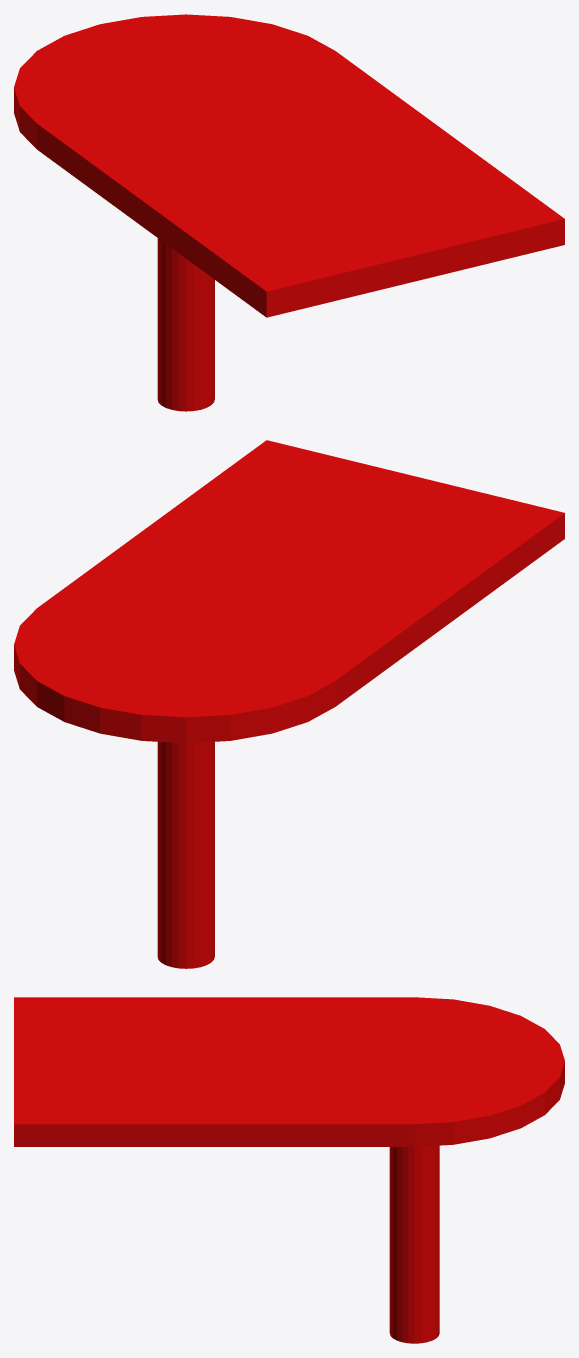
Rendered from OM_1BHK_Kitchen_Dining_Table_01.fbx.
The picture shows the model from 3 angles, top to bottom: view 1: azimuth 30°, elevation 25°; view 2: azimuth 150°, elevation 25°; view 3: azimuth 270°, elevation 25°; orthographic projection. The views are drawn at different scales.
Parts seen in each view (by area): view 1: OM_1BHK_Kitchen_Dining_Table_01_Top, OM_1BHK_Kitchen_Dining_Table_01_Leg; view 2: OM_1BHK_Kitchen_Dining_Table_01_Top, OM_1BHK_Kitchen_Dining_Table_01_Leg; view 3: OM_1BHK_Kitchen_Dining_Table_01_Top, OM_1BHK_Kitchen_Dining_Table_01_Leg.
Boxes of the visible parts, bbox=[...] form: OM_1BHK_Kitchen_Dining_Table_01_Top: bbox=[14, 14, 564, 317]; OM_1BHK_Kitchen_Dining_Table_01_Leg: bbox=[157, 238, 214, 411]; OM_1BHK_Kitchen_Dining_Table_01_Top: bbox=[14, 440, 564, 743]; OM_1BHK_Kitchen_Dining_Table_01_Leg: bbox=[157, 741, 214, 968]; OM_1BHK_Kitchen_Dining_Table_01_Top: bbox=[14, 997, 564, 1146]; OM_1BHK_Kitchen_Dining_Table_01_Leg: bbox=[389, 1145, 439, 1343].
Bounding box in the file's own units: 3 × 3 × 5.5.
